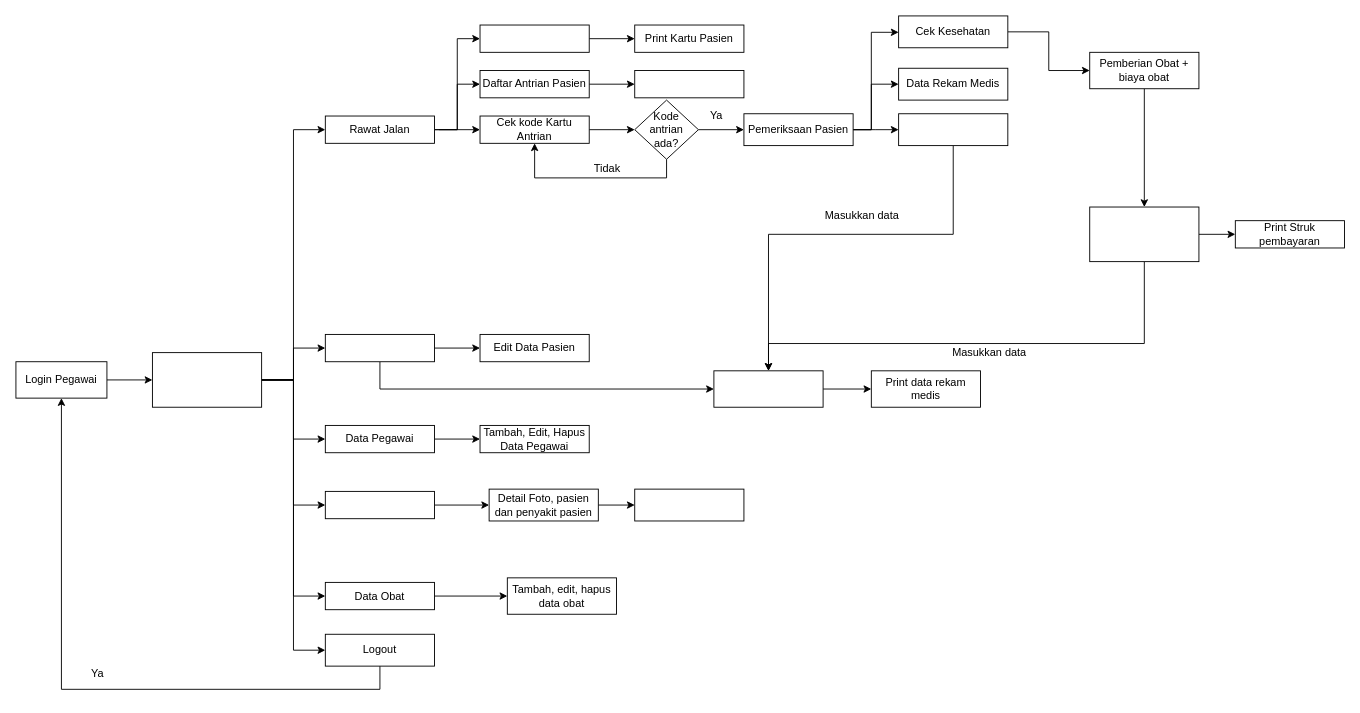
This 1360x713 diagram has some shape labels left out. The shapes that lost their labels are listed below. From the top down, each one's centre as x and y in pixels, then its label:
pixel 534 38: Daftar Pasien Baru
pixel 689 84: Print Kartu Antrian
pixel 953 129: Upload Foto Rotgen
pixel 1144 234: Total biaya pemeriksaan + obat + rotgen
pixel 379 348: Data Pasien
pixel 207 379: Halaman Utama
pixel 768 388: Data semua rekam medis pasien
pixel 379 504: Data Foto Rotgen
pixel 689 504: Foto dapat diprint
